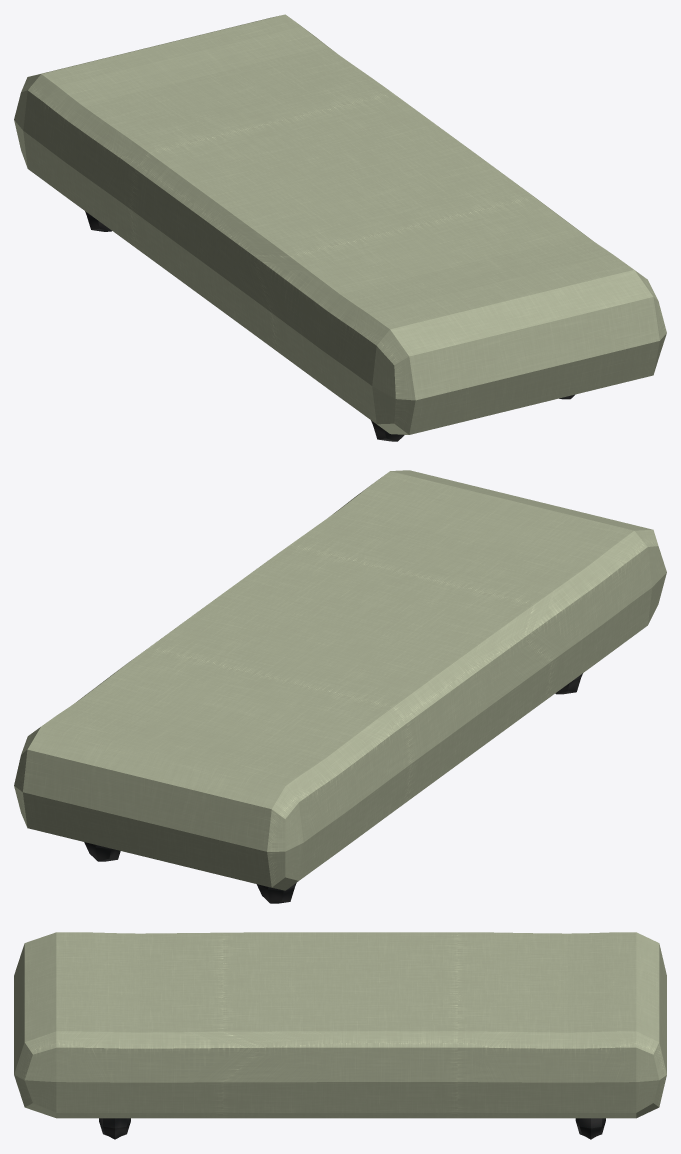
Rendered from chairwhite.obj.
3 renders of one model, top to bottom at view 1: azimuth 30°, elevation 25°; view 2: azimuth 150°, elevation 25°; view 3: azimuth 270°, elevation 25°, orthographic. The views are drawn at different scales.
Visible parts, largest first — view 1: Cube; view 2: Cube; view 3: Cube.
Part boxes in pixels (x1,y1,x2,y2): Cube: (14, 14, 666, 441); Cube: (14, 470, 666, 903); Cube: (14, 932, 666, 1139).
Bounding box in the file's own units: 1.4 × 0.7 × 3.4.
